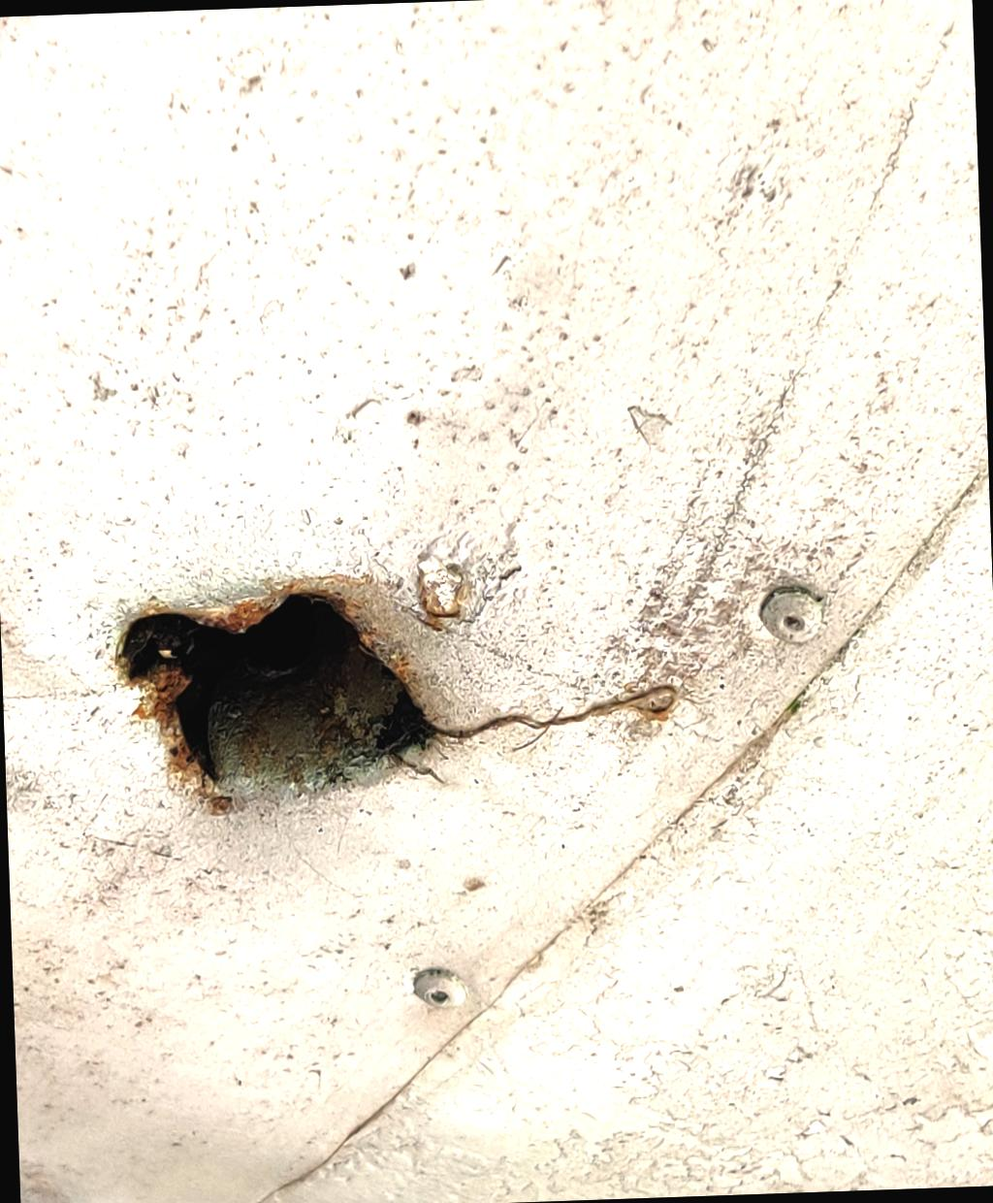crack: (83, 512, 704, 841)
